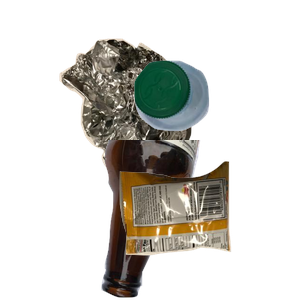glass: (99, 140, 300, 300)
metal: (57, 36, 241, 216)
plastic: (132, 58, 300, 182)
trash: (117, 159, 300, 300)
